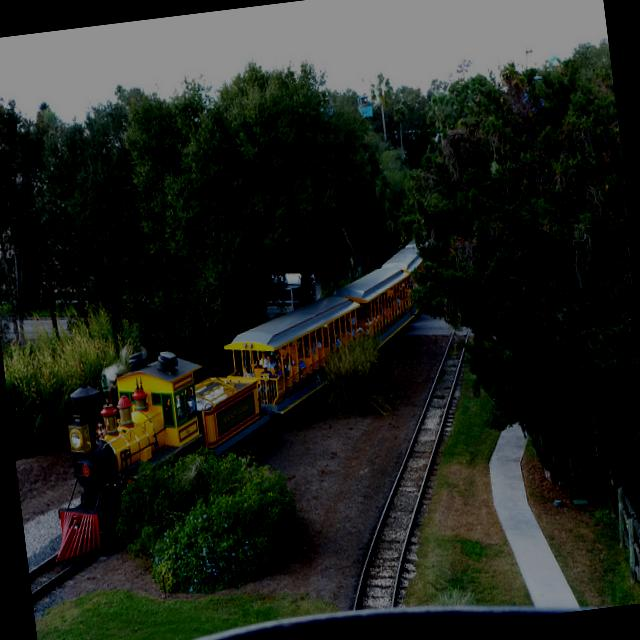Vehicle: (236, 269, 321, 325)
